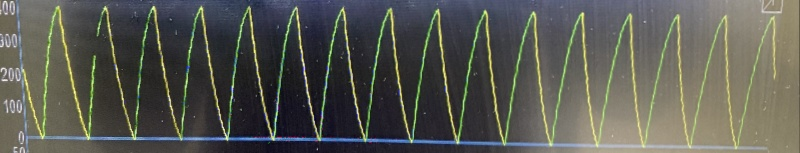normal_volume: (32, 4, 744, 148)
